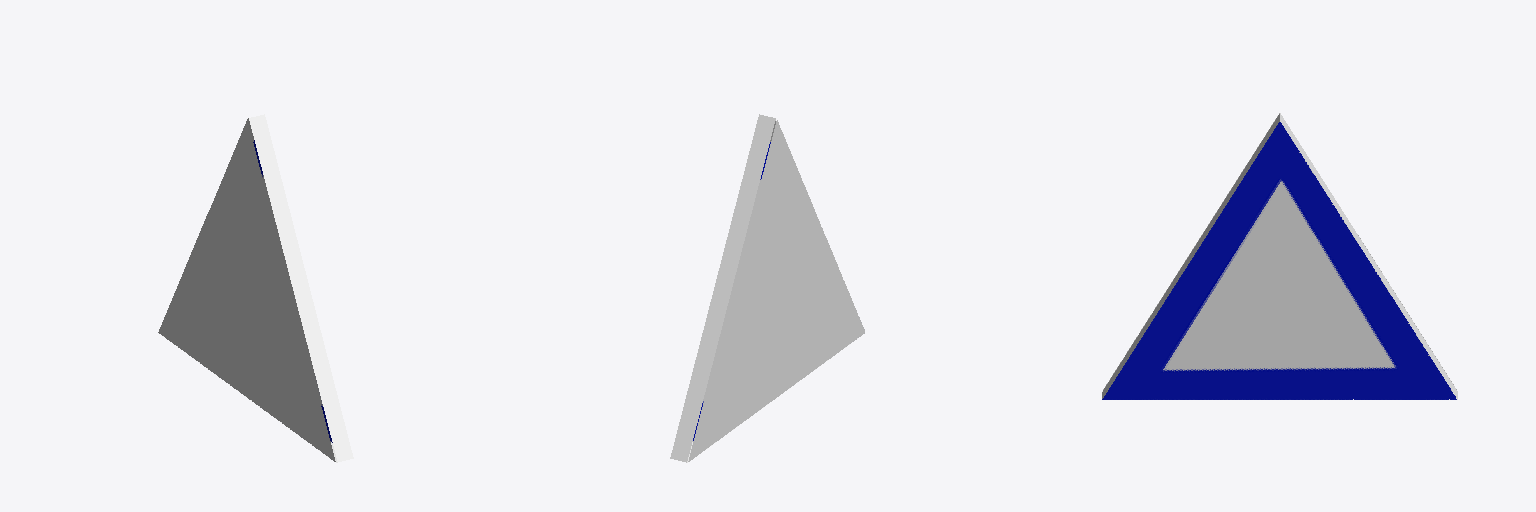
3 renders of one model, left to right at view 1: azimuth 30°, elevation 25°; view 2: azimuth 150°, elevation 25°; view 3: azimuth 270°, elevation 25°, orthographic.
Parts seen in each view (by area): view 1: Circle; view 2: Circle; view 3: Circle.
Part boxes in pixels (x1,y1,x2,y2): Circle: (158,114,353,462); Circle: (670,114,864,462); Circle: (1102,113,1457,399).
Size of the model in its own units: 0.1 by 1.5 by 1.73.
1 materials, 1 textured.